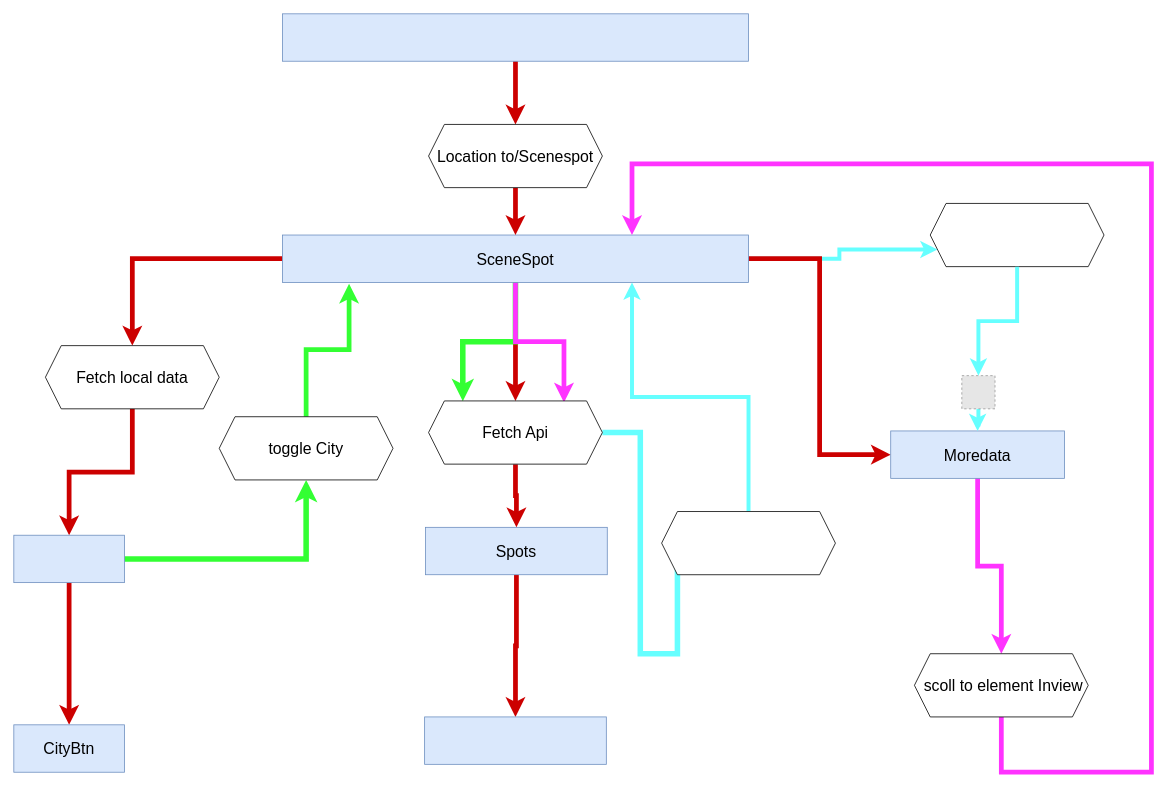
The diagram is 1174 pixels wide and 795 high, and some of its shapes have lost their labels. Grey dashed boxes stand in for pictures. Each missing label, with the centre of its shape:
App: point 515,37
CityGroup: point 68,558
Data number <30: point 748,543
MoreData remove: point 1016,235
Spot: point 515,740
